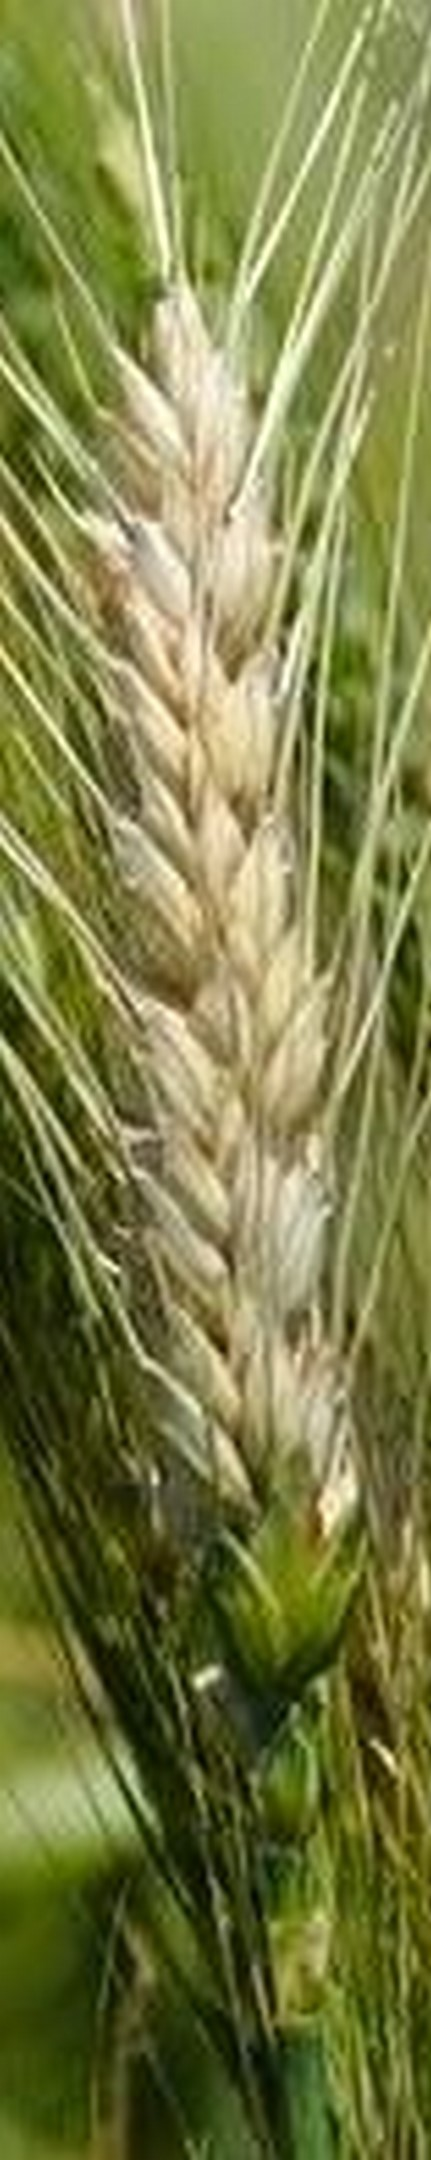Wheat scab: (50, 270, 414, 1736)
